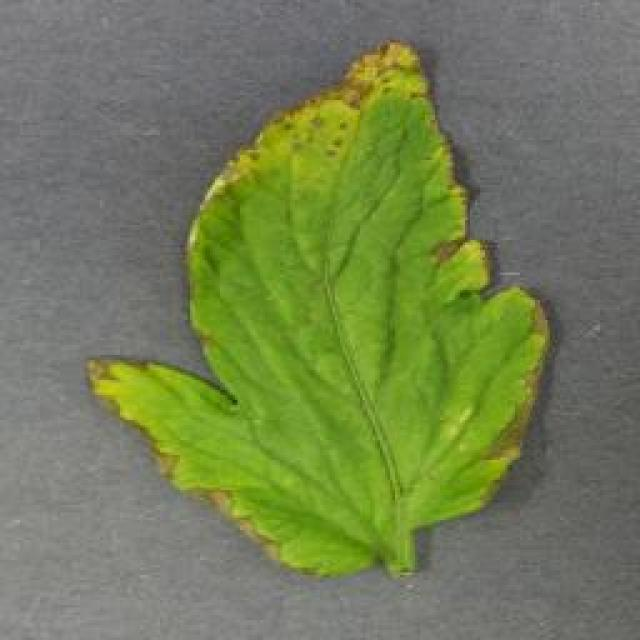Tomato bacterial spot leaf: (80, 31, 555, 582)
